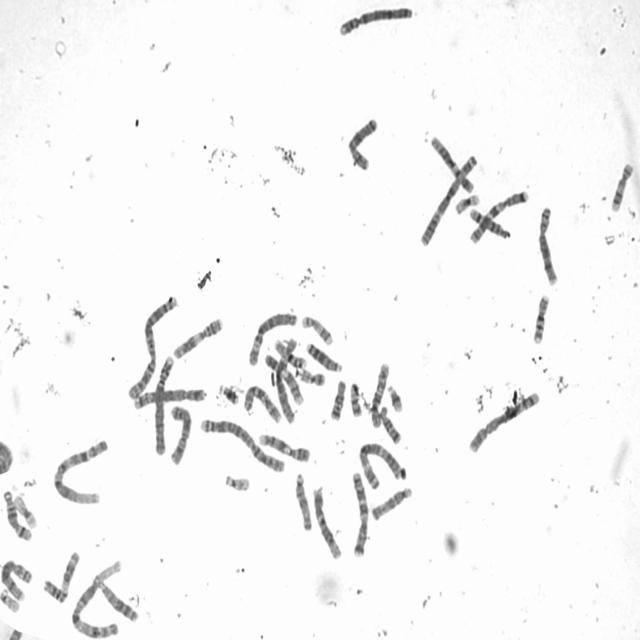A1: (69, 556, 122, 640), (50, 435, 109, 506)
A2: (124, 292, 180, 400), (198, 414, 286, 474)
A3: (417, 151, 479, 247), (356, 438, 406, 491)
B4: (337, 4, 414, 38), (151, 352, 175, 458)
B5: (466, 388, 540, 455), (131, 384, 208, 410)
C10: (241, 381, 283, 425), (369, 360, 390, 429)
C11: (170, 314, 224, 361), (40, 548, 81, 604)
C12: (428, 132, 475, 194), (311, 482, 343, 562)
C6: (246, 309, 298, 367), (274, 337, 298, 427)
C7: (466, 187, 530, 246), (349, 469, 369, 559)
C8: (536, 202, 558, 289), (0, 559, 33, 602)
C9: (263, 350, 304, 407), (257, 431, 310, 464)
D13: (95, 578, 139, 624), (304, 338, 343, 374)
D14: (2, 488, 34, 542), (466, 205, 512, 241)
D15: (369, 483, 414, 523), (293, 470, 314, 532)
E16: (272, 335, 308, 369), (532, 290, 550, 344)
E17: (610, 160, 636, 213), (300, 314, 334, 348)
E18: (378, 404, 402, 446), (328, 377, 347, 422)
F19: (12, 492, 38, 530), (452, 190, 482, 216)
F20: (296, 367, 327, 388), (350, 383, 362, 419)
G21: (385, 381, 404, 414), (218, 380, 240, 406)
G22: (222, 471, 252, 494), (0, 586, 22, 614)
X: (345, 114, 379, 171), (166, 403, 192, 466)
